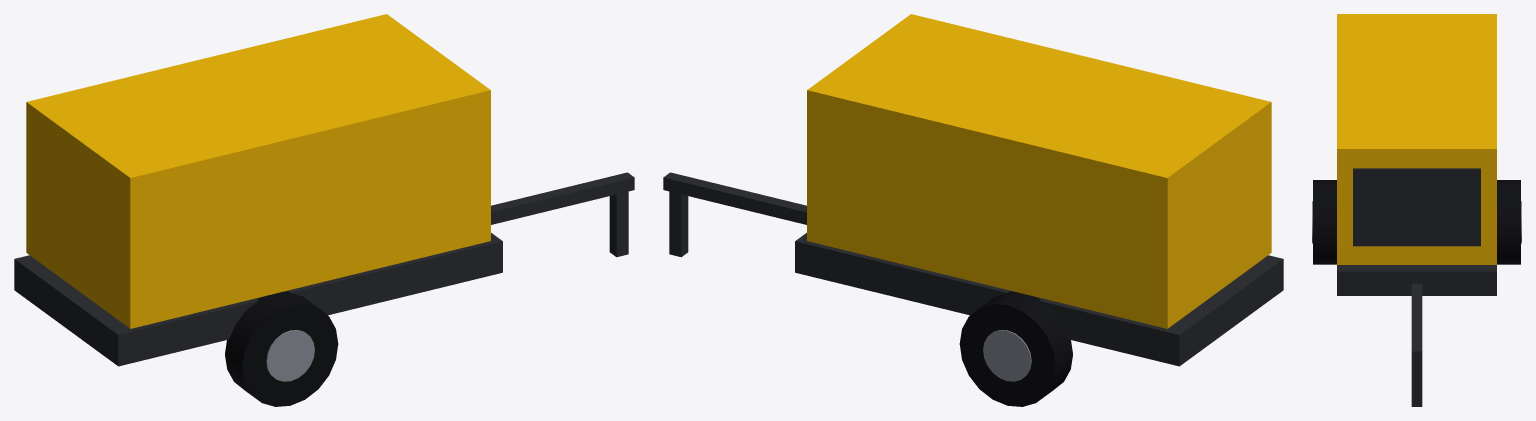
Rendered from screw-air-compressor.glb.
3 renders of one model, left to right at view 1: azimuth 30°, elevation 25°; view 2: azimuth 150°, elevation 25°; view 3: azimuth 270°, elevation 25°, orthographic. The views are drawn at different scales.
Size of the model in its own units: 4.7 by 2 by 1.97.
